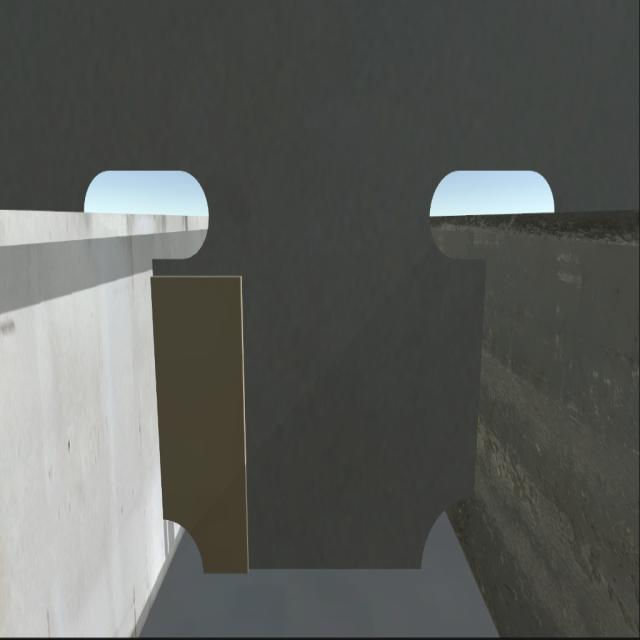fillet_hole: (420, 502, 472, 566), (161, 519, 205, 580)
fillet_yong_jeop_jang: (204, 558, 430, 594)
longi_yong_jeop_jang: (466, 254, 495, 508), (155, 251, 170, 528)
plate_CP01: (159, 268, 249, 572)
